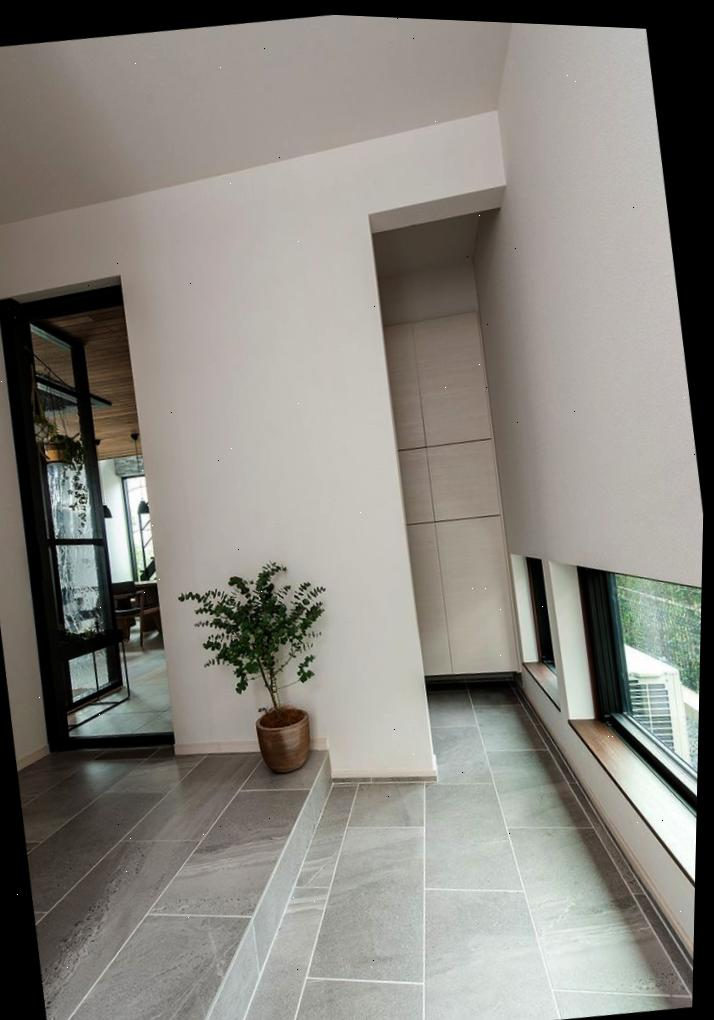floor: (242, 679, 693, 1020)
safe: (16, 743, 328, 1020)
